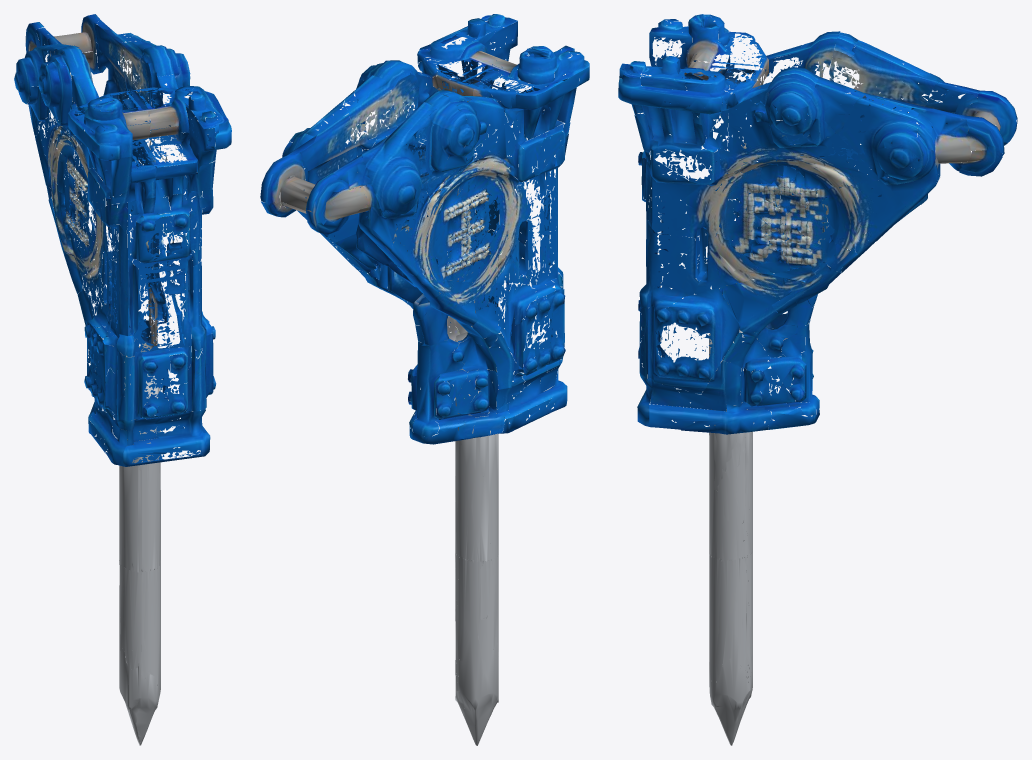
Rendered from breaker.glb.
The picture shows the model from 3 angles, left to right: view 1: azimuth 30°, elevation 25°; view 2: azimuth 150°, elevation 25°; view 3: azimuth 270°, elevation 25°; orthographic projection. The views are drawn at different scales.
Visible parts, largest first — view 1: BreakerBody, MetalChisel; view 2: BreakerBody, MetalChisel; view 3: BreakerBody, MetalChisel.
Part boxes in pixels (x1,y1,x2,y2): BreakerBody: (14, 14, 231, 466); MetalChisel: (119, 347, 160, 745); BreakerBody: (260, 14, 589, 444); MetalChisel: (455, 332, 498, 745); BreakerBody: (618, 14, 1017, 434); MetalChisel: (709, 329, 752, 745).
Size of the model in its own units: 0.639 by 2.4 by 1.23.
2 materials, 1 textured.
